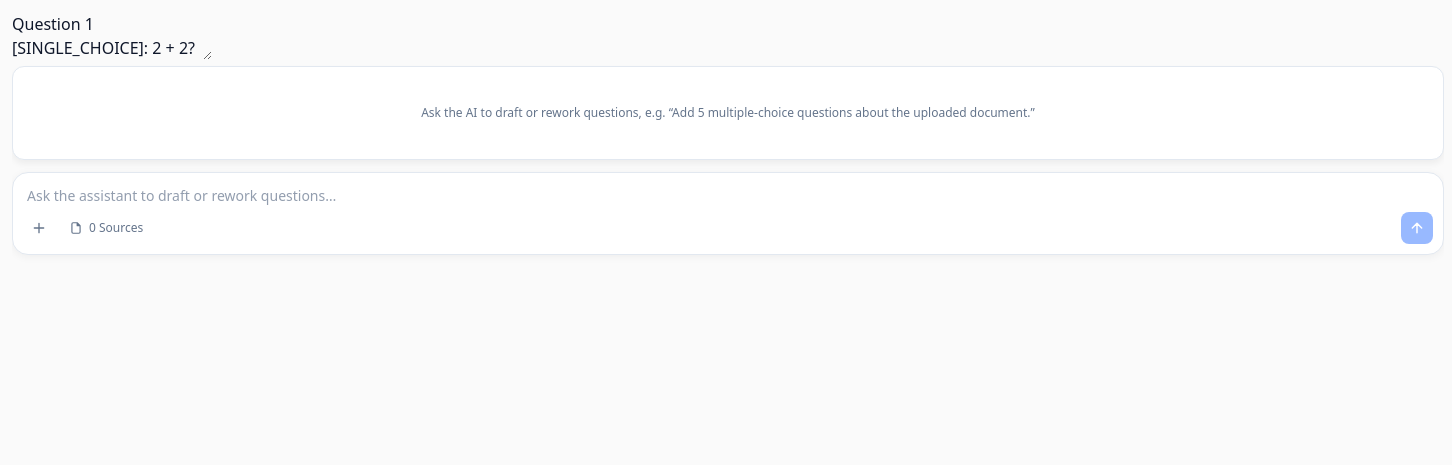
AiAuthoringChat › auto-applies a valid candidate as PENDING and shows true diff counts
Type "Add a question" into the text box named "Message the AI assistant" at (728,190), box x1=13 y1=172 x2=1443 y2=208
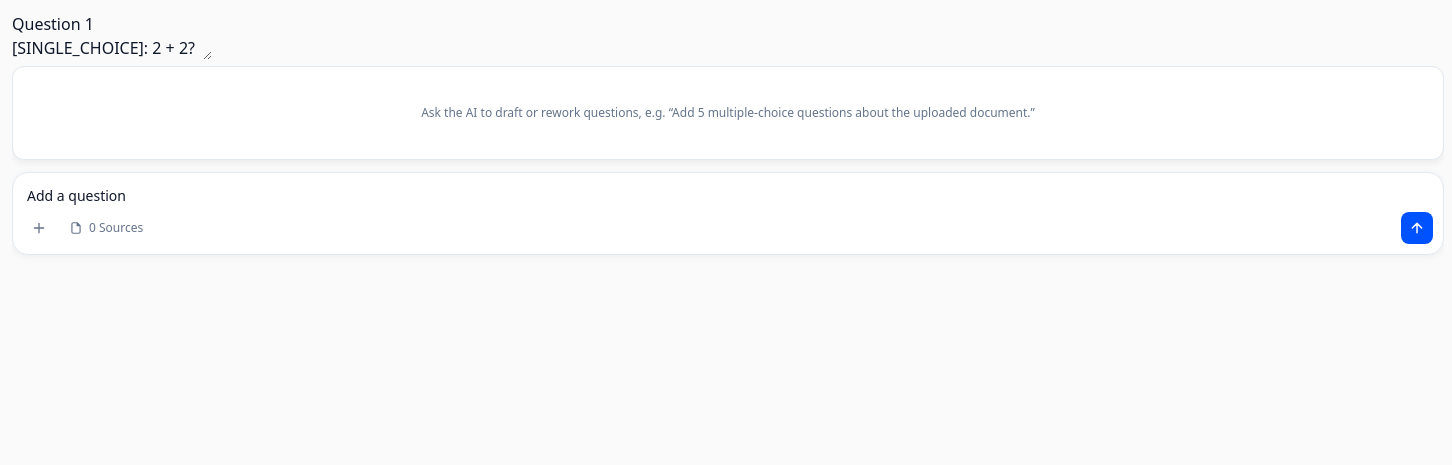
Now the button named "Send message" is enabled
Click the button named "Send message" at (1417,228), box x1=1401 y1=212 x2=1433 y2=244
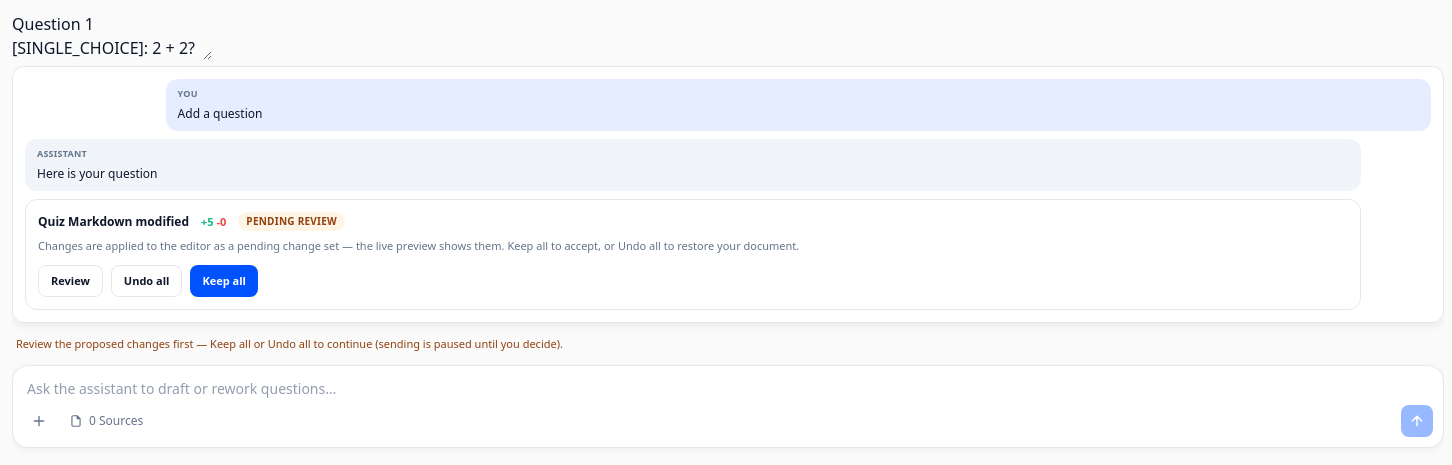
Now the text "Here is your question" is shown, box x1=37 y1=165 x2=158 y2=182
Now the element with test id "ai-merge-changes-card" shows "Pending review", box x1=246 y1=214 x2=337 y2=228
Now the element with test id "ai-merge-changes-card" shows "+5", box x1=25 y1=199 x2=1361 y2=310
